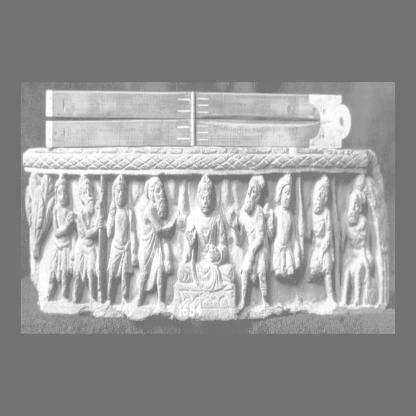buddha-sitting: (174, 175, 235, 317)
